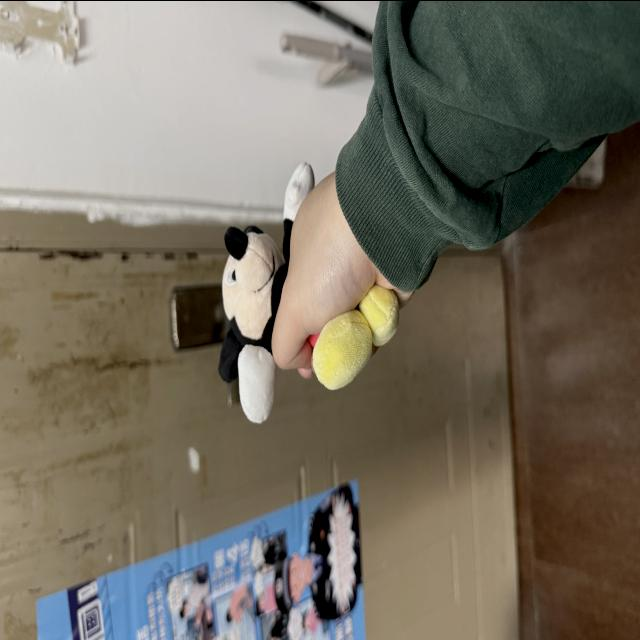mickey: (219, 162, 314, 421)
